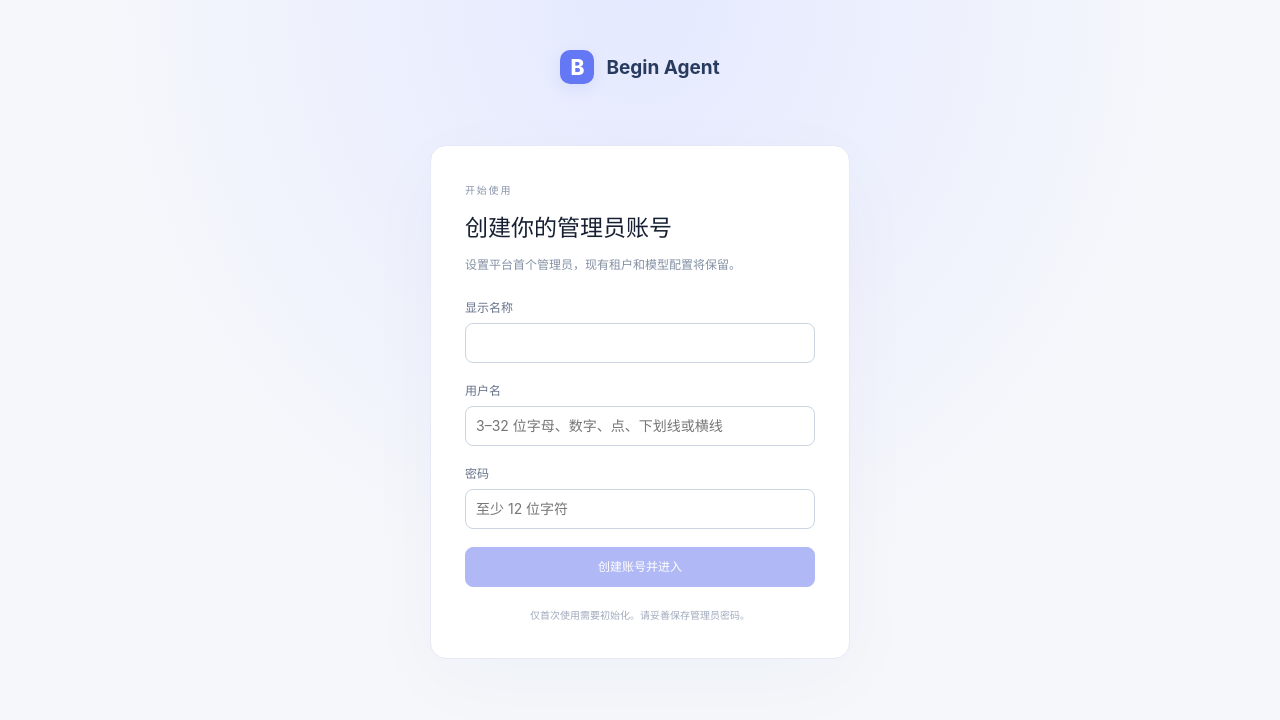
Scenario: submits setup and enters authenticated workspace without retaining password
Type "管理员" into the field labelled "显示名称" at (640, 343), box [465,323,815,363]
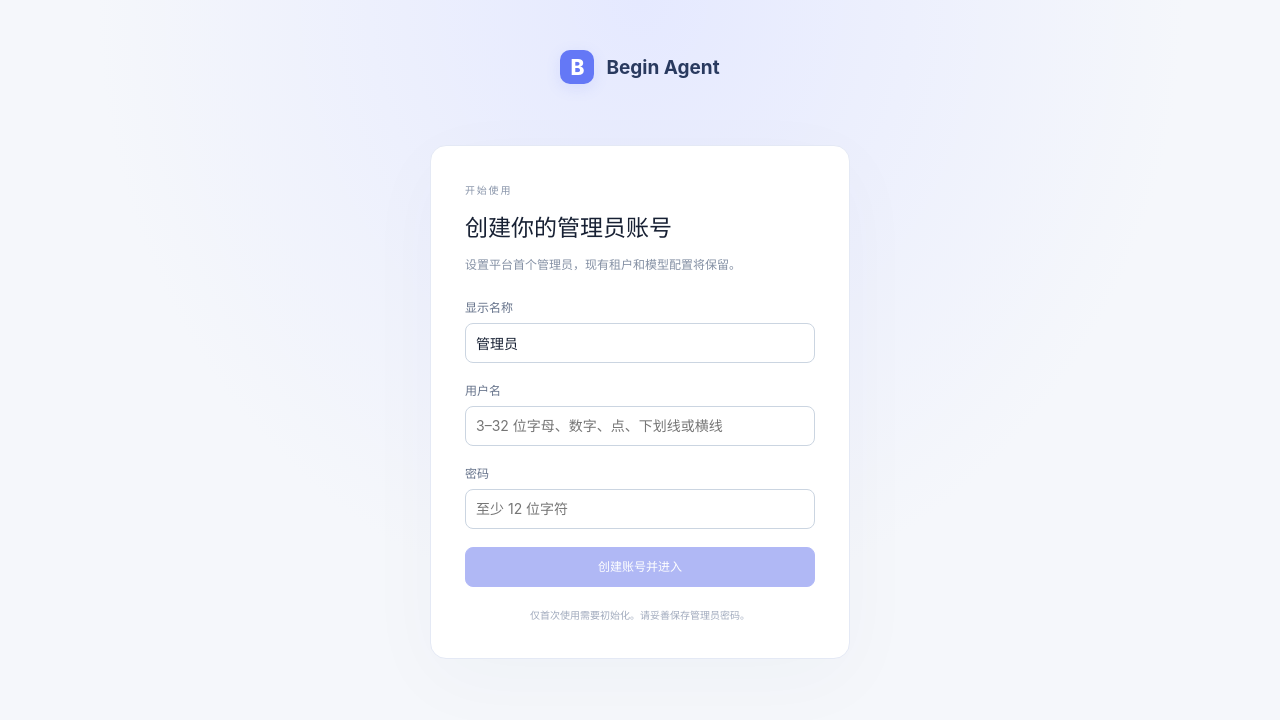
Type "admin" into the field labelled "用户名" at (640, 426), box [465,406,815,446]
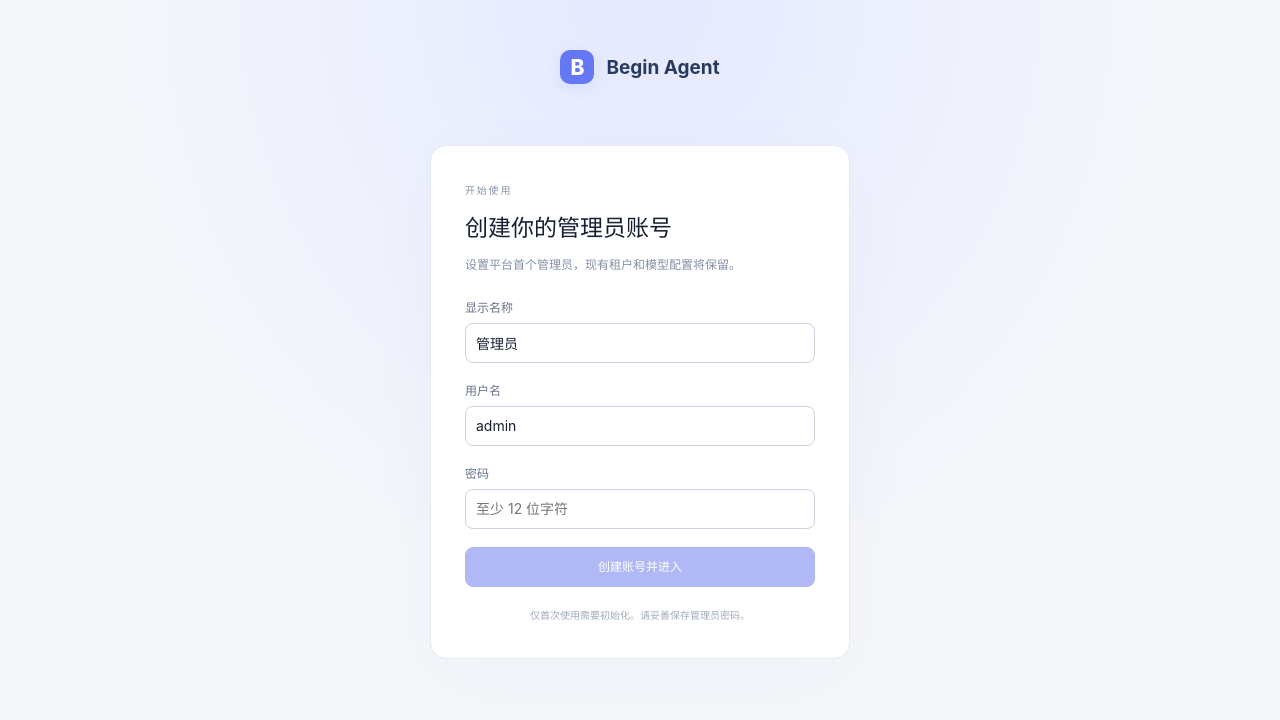
Type "long-enough-password" into the password field labelled "密码" at (640, 509), box [465,489,815,529]
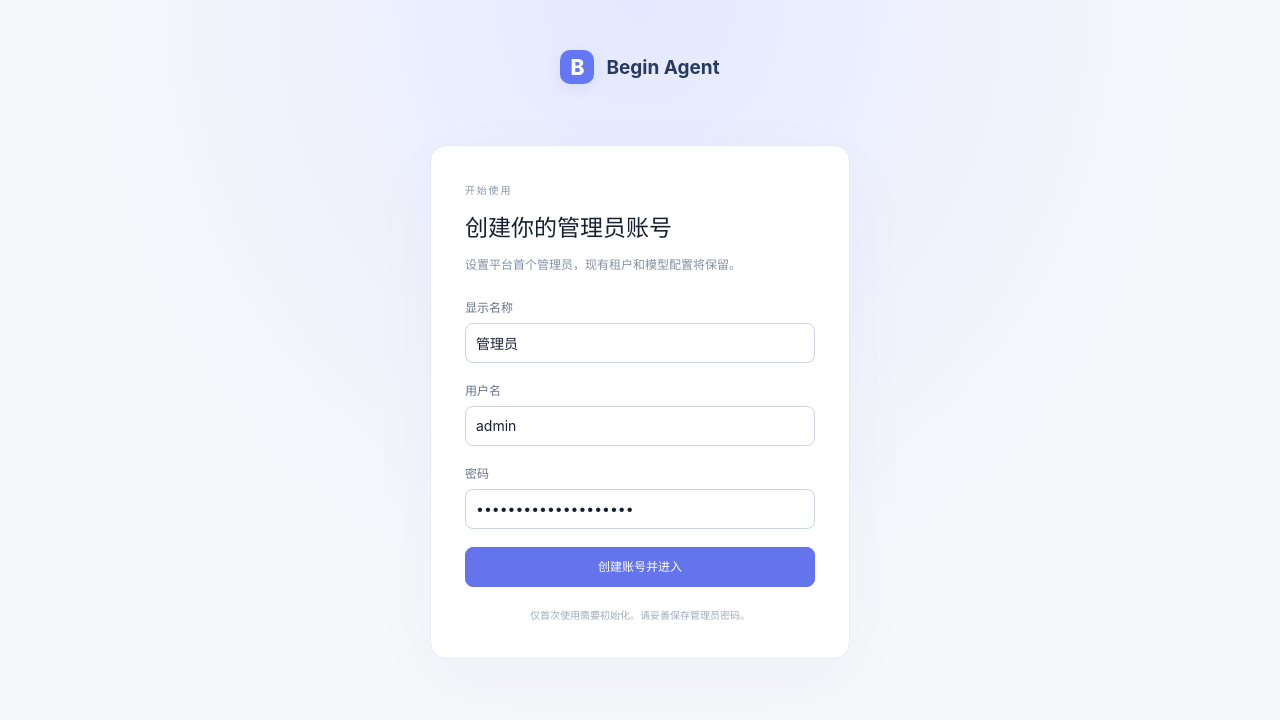
Submit the form, box [465,298,815,587]
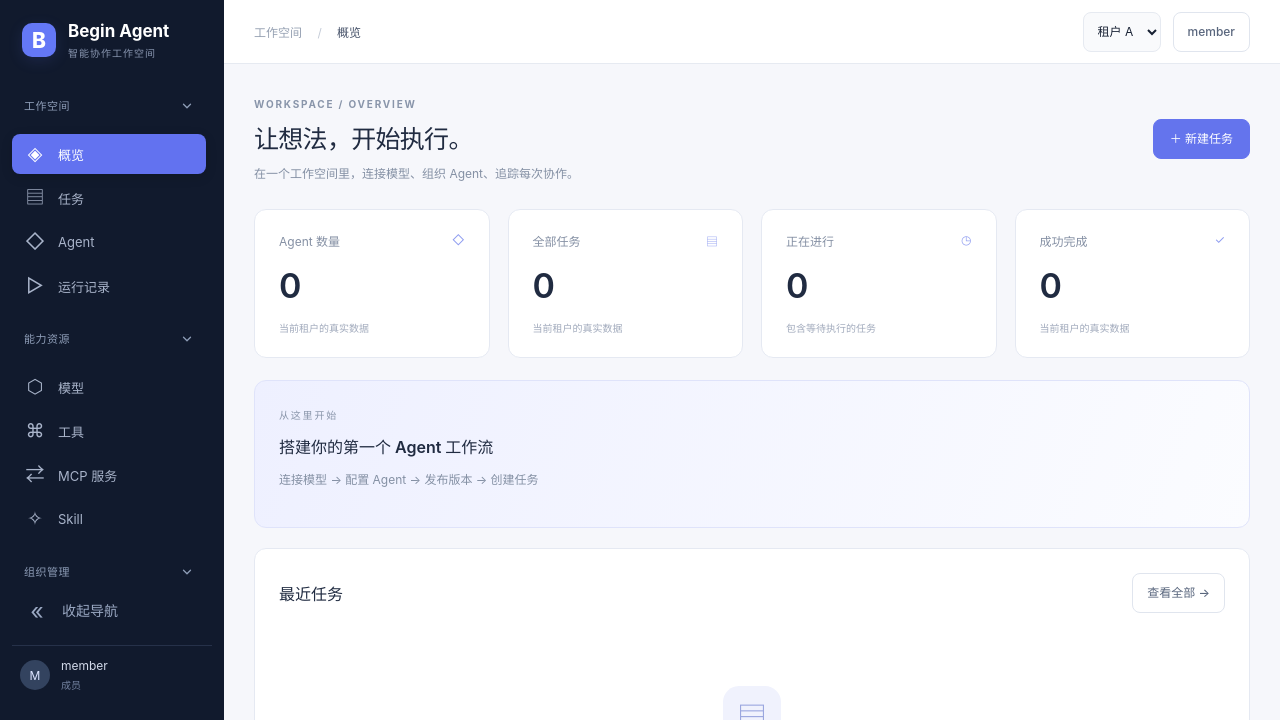
Now the element with class "sidebar" is shown, box [0,0,224,719]
